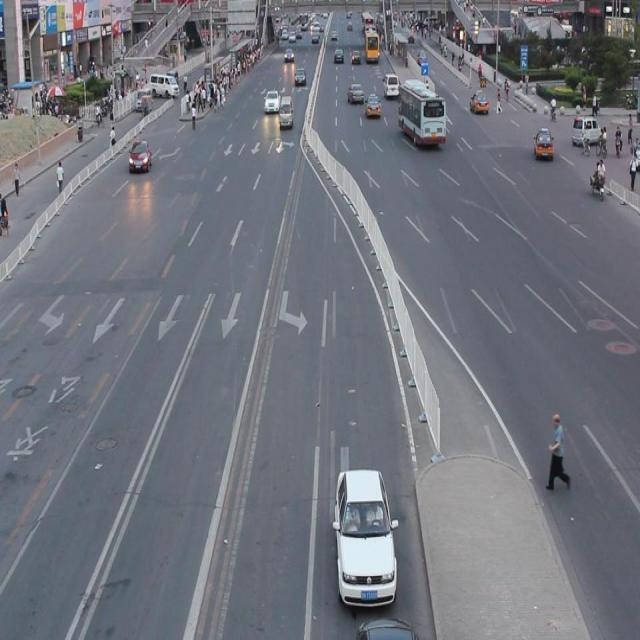BigCar: (397, 65, 452, 160), (358, 28, 389, 68)
car: (314, 467, 409, 613), (539, 110, 562, 183), (578, 100, 604, 164), (131, 134, 156, 187), (345, 70, 370, 110), (258, 76, 280, 121), (281, 28, 298, 78), (278, 89, 297, 131), (365, 92, 385, 120), (334, 31, 345, 73)
